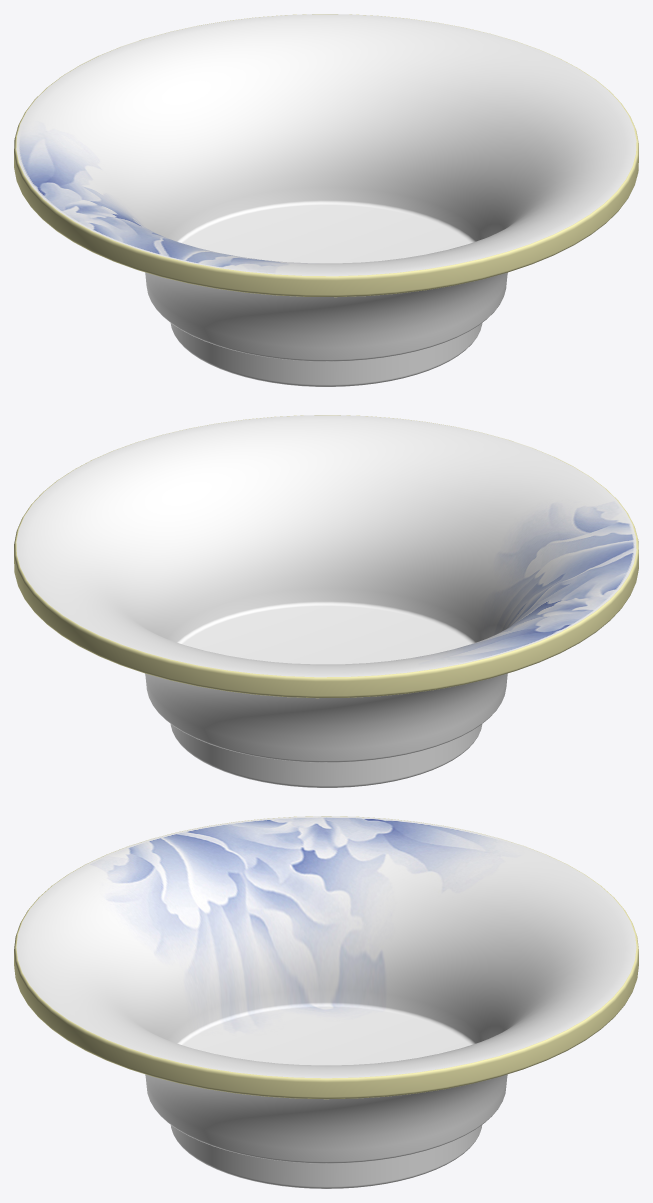
3 renders of one model, top to bottom at view 1: azimuth 30°, elevation 25°; view 2: azimuth 150°, elevation 25°; view 3: azimuth 270°, elevation 25°, orthographic.
Parts seen in each view (by area): view 1: Line132; view 2: Line132; view 3: Line132.
Boxes of the visible parts, x1,y1,x2,y2 form: Line132: [14, 14, 638, 386]; Line132: [14, 415, 638, 787]; Line132: [14, 816, 638, 1188].
Size of the model in its own units: 80 by 24.99 by 80.
4 materials, 2 textured.
